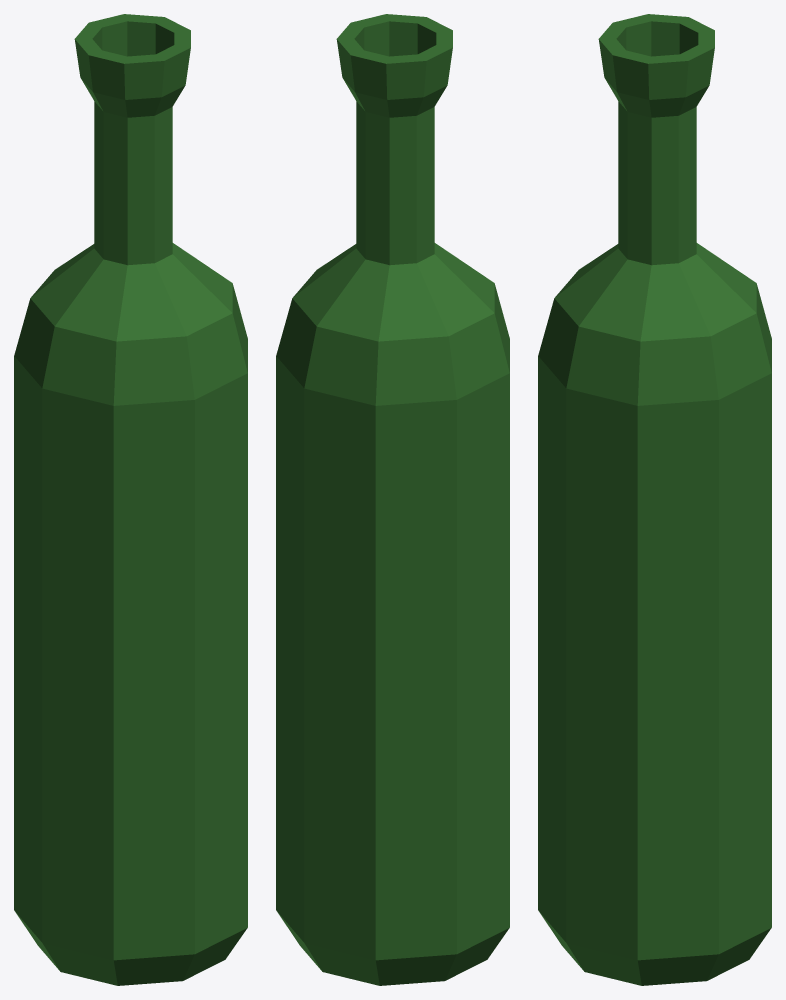
File: bottle_3.fbx
3 renders of one model, left to right at view 1: azimuth 30°, elevation 25°; view 2: azimuth 150°, elevation 25°; view 3: azimuth 270°, elevation 25°, orthographic.
Visible parts, largest first — view 1: bottle_1; view 2: bottle_1; view 3: bottle_1.
Boxes of the visible parts, x1,y1,x2,y2 form: bottle_1: [14, 14, 247, 985]; bottle_1: [276, 14, 509, 985]; bottle_1: [538, 14, 771, 985].
Size of the model in its own units: 0.2063 by 0.8697 by 0.2031.
